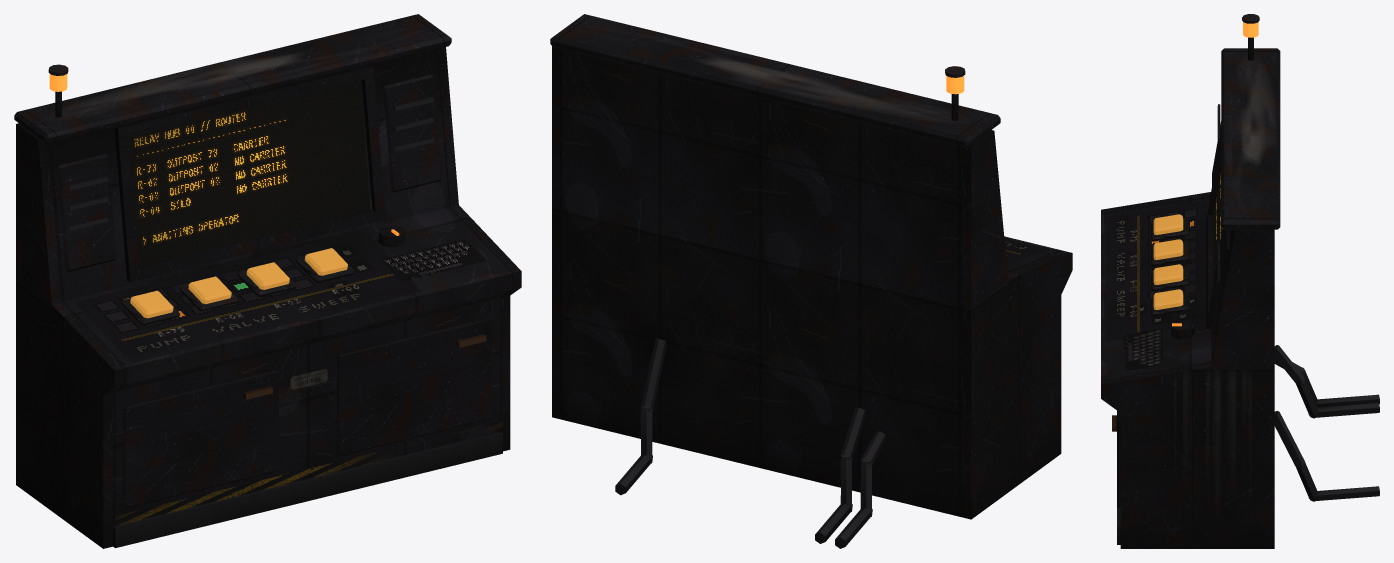
The model's file is terminal_router.glb.
3 views of the same model, side by side, from view 1: azimuth 30°, elevation 25°; view 2: azimuth 150°, elevation 25°; view 3: azimuth 270°, elevation 25° (orthographic). The views are drawn at different scales.
Parts seen in each view (by area): view 1: body, screens, panels, decals; view 2: body, decals, panels; view 3: body, panels, decals, screens.
Boxes of the visible parts, x1,y1,x2,y2 form: body: (14, 14, 521, 548); screens: (128, 80, 370, 266); panels: (74, 231, 485, 362); decals: (71, 54, 502, 525); body: (550, 14, 1072, 548); decals: (700, 57, 944, 118); panels: (1004, 238, 1049, 266); body: (1101, 14, 1379, 548); panels: (1105, 200, 1206, 370); decals: (1130, 64, 1274, 453); screens: (1213, 169, 1222, 285).
Size of what is drawn, in the model's own units: 2.1 by 2.08 by 1.41.
Materials: 20 (11 with a texture image).
